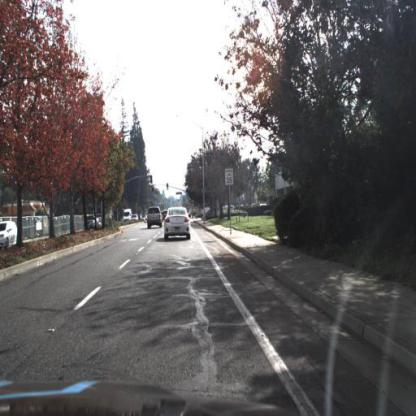car: (164, 207, 194, 241), (1, 221, 21, 255), (147, 204, 165, 231), (84, 213, 102, 236), (160, 208, 172, 221), (130, 212, 140, 224)
trafficLight-Green: (167, 183, 171, 193)
trafficLight-RedLeft: (151, 185, 156, 195)
truck: (123, 208, 133, 223)
